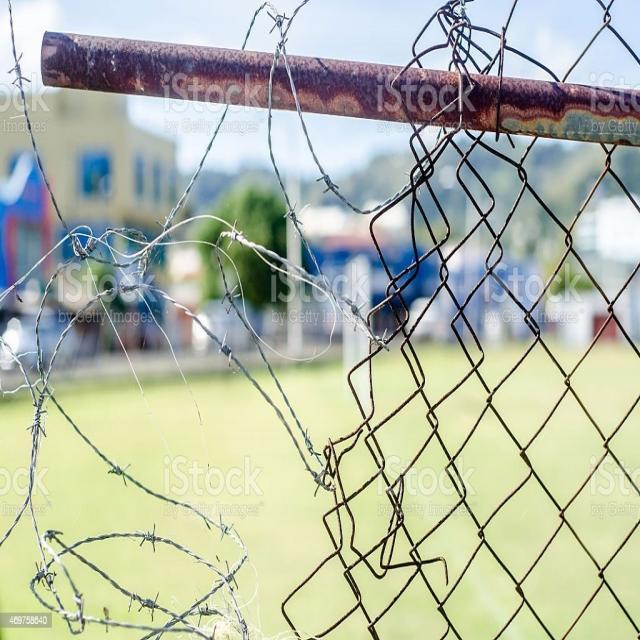fence line: (9, 49, 402, 589)
